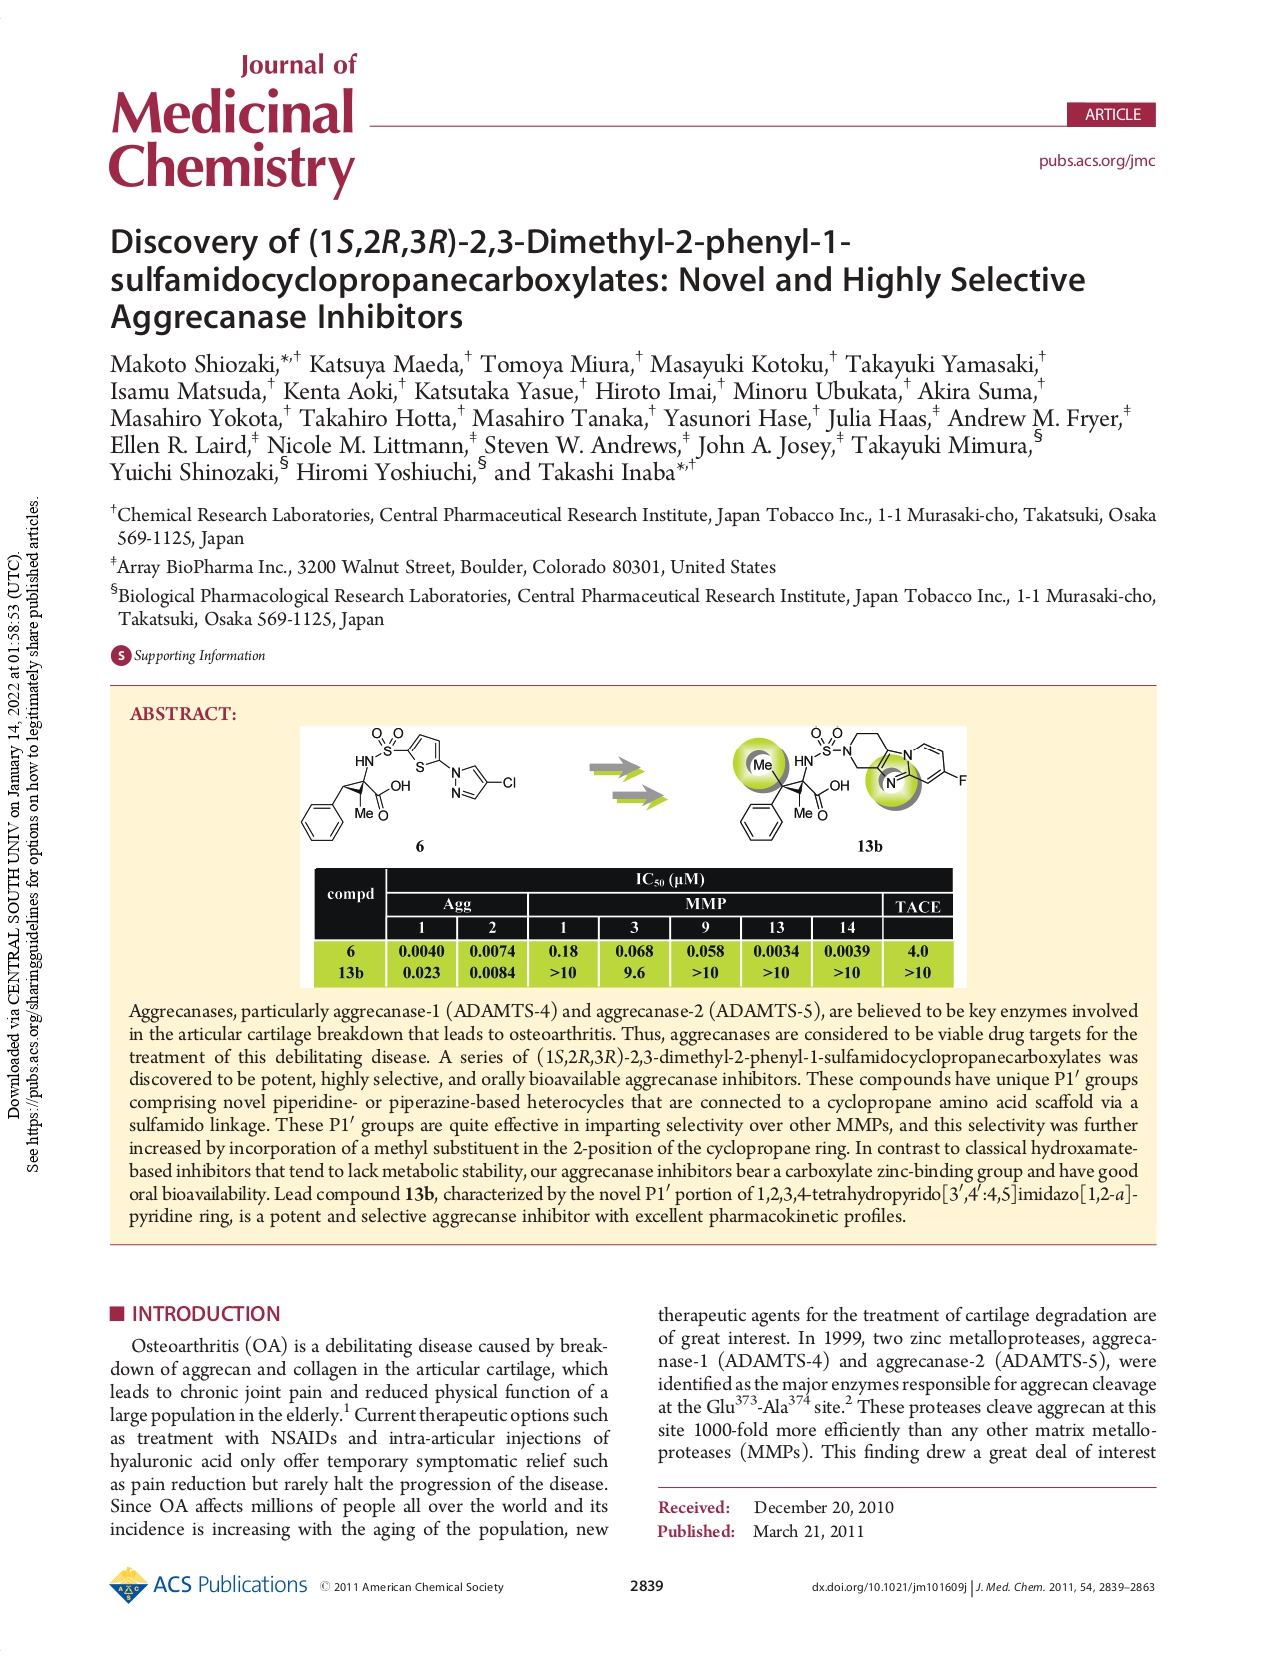exist_molecular: (739, 726, 967, 844), (301, 727, 519, 844)
